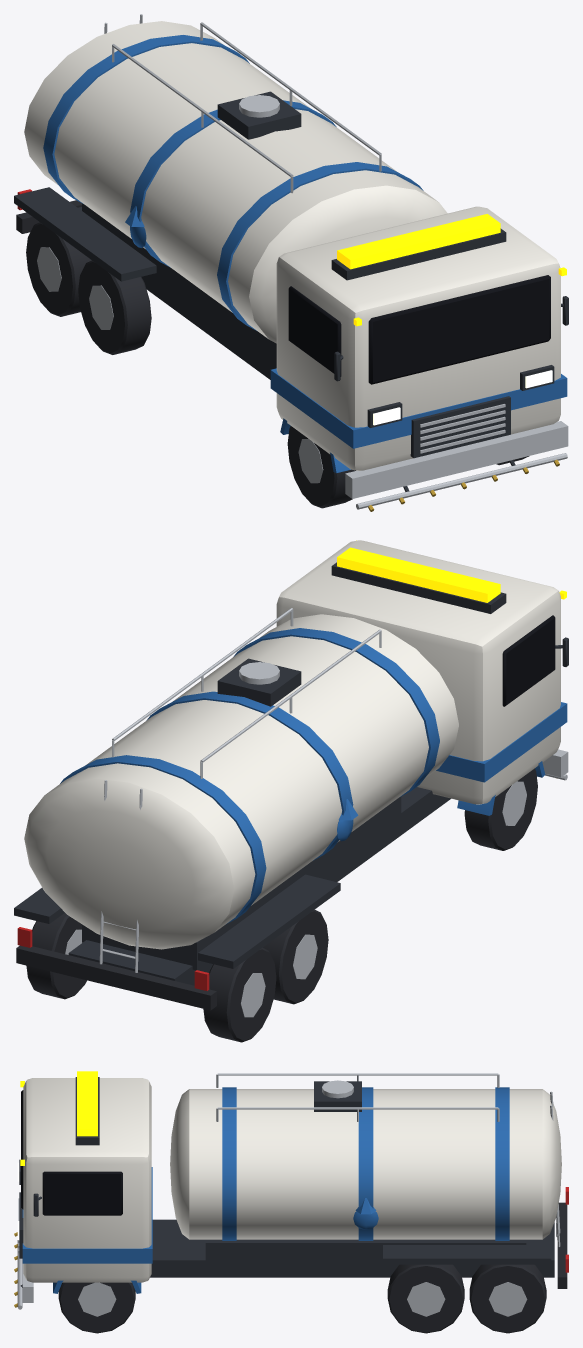
The model's file is street_flusher.glb.
3 renders of one model, top to bottom at view 1: azimuth 30°, elevation 25°; view 2: azimuth 150°, elevation 25°; view 3: azimuth 270°, elevation 25°, orthographic. The views are drawn at different scales.
Parts seen in each view (by area): view 1: body; view 2: body; view 3: body.
Part boxes in pixels (x1,y1,x2,y2): body: (14,14,568,511); body: (14,540,568,1042); body: (14,1071,568,1333).
Bounding box in the file's own units: 263 × 286 × 692.
